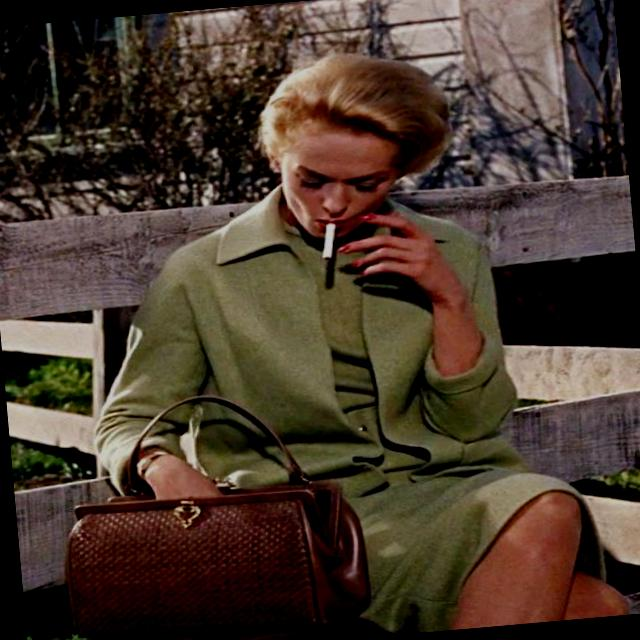cigarette: (298, 202, 350, 274)
